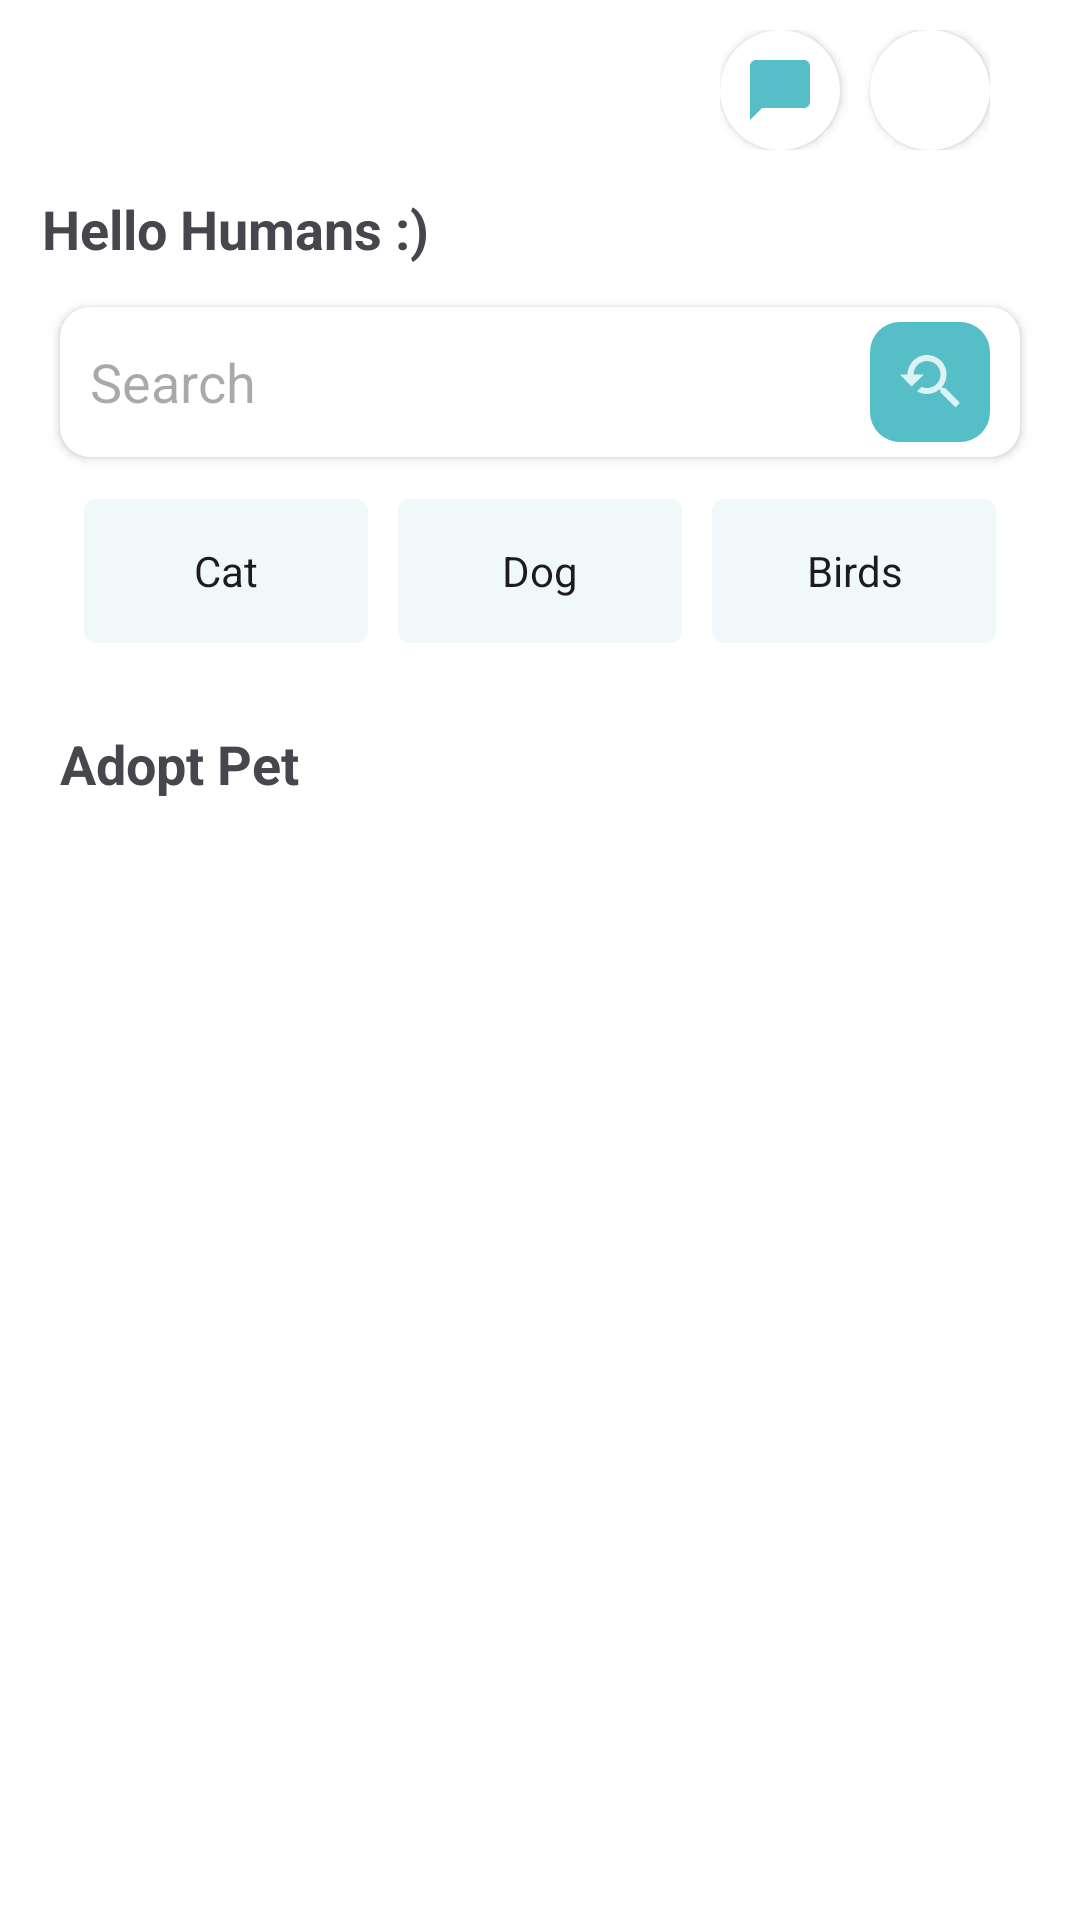

Point at icon controls on the screen. Image size 1080 x 1920, points as (x=x, y=y).
chat bubble: (x=780, y=90)
